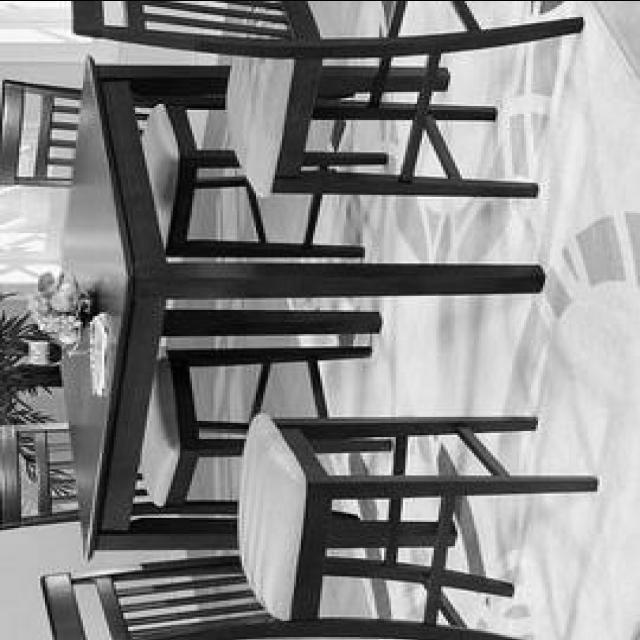chair: (39, 414, 599, 640), (63, 1, 588, 199), (2, 344, 390, 530), (0, 78, 385, 258)
table: (83, 52, 545, 562)
